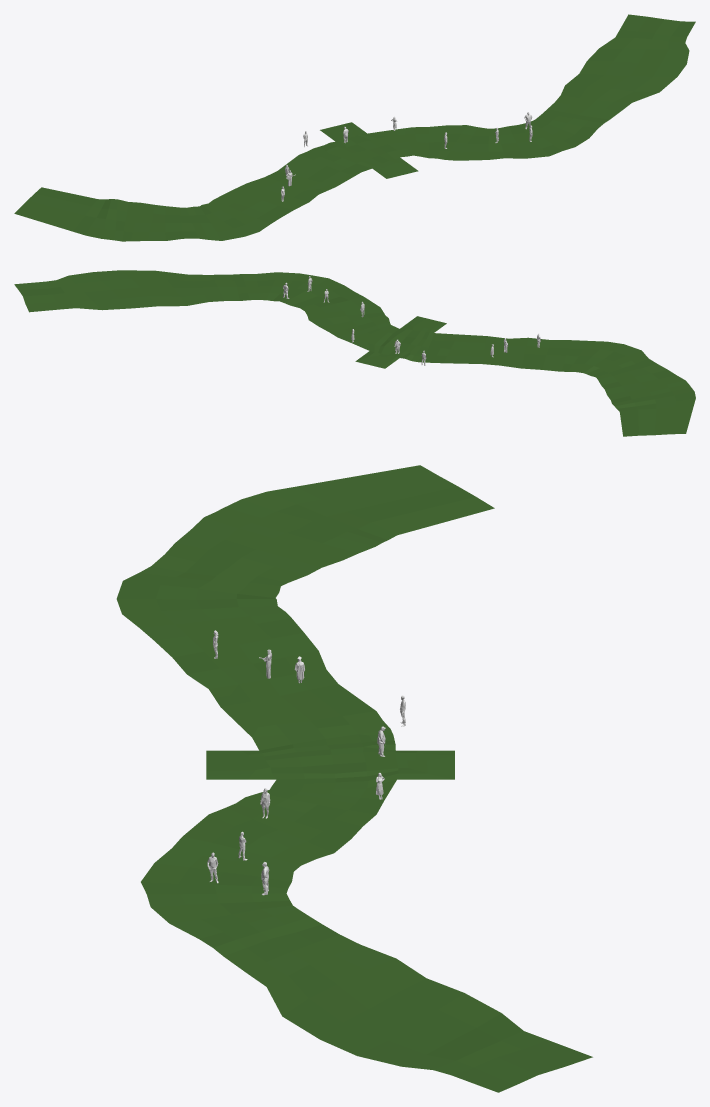
Rendered from rio_verde.fbx.
The picture shows the model from 3 angles, top to bottom: view 1: azimuth 30°, elevation 25°; view 2: azimuth 150°, elevation 25°; view 3: azimuth 270°, elevation 25°; orthographic projection. The views are drawn at different scales.
Parts seen in each view (by area): view 1: rio enterrado; view 2: rio enterrado; view 3: rio enterrado.
Boxes of the visible parts, x1,y1,x2,y2 form: rio enterrado: [14, 14, 695, 241]; rio enterrado: [14, 270, 695, 436]; rio enterrado: [116, 465, 592, 1092].
Bounding box in the file's own units: 8724 × 207 × 2760.
